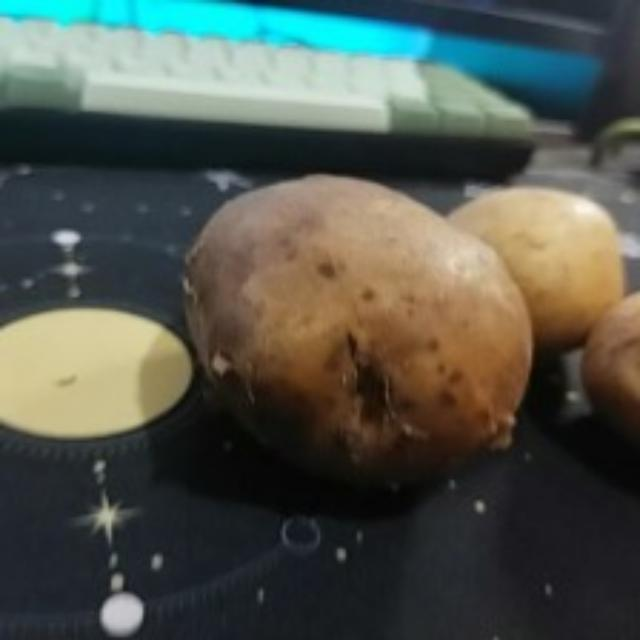potato: (183, 166, 541, 488)
